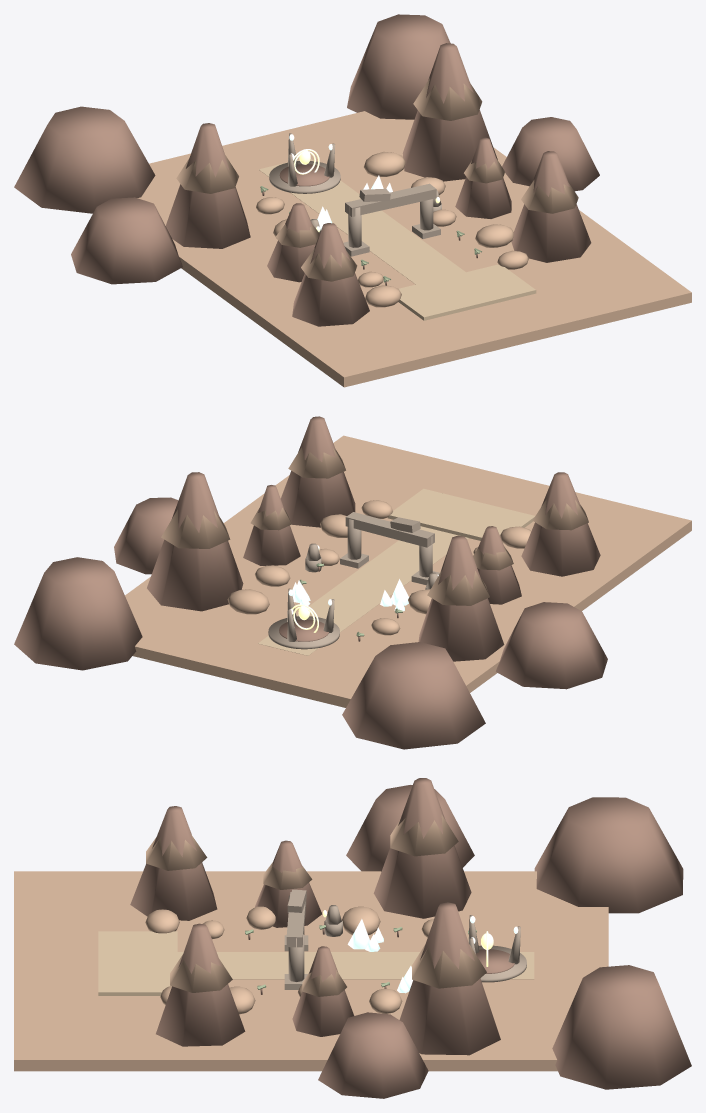
Rendered from sunscale_reach_v001.glb.
3 views of the same model, one above another, from view 1: azimuth 30°, elevation 25°; view 2: azimuth 150°, elevation 25°; view 3: azimuth 270°, elevation 25° (orthographic). The views are drawn at different scales.
Visible parts, largest first — view 1: Terrain_Base, BackdropMesa_2, BackdropMesa_3, BackdropMesa_0, CanyonSpire_5, CanyonSpire_2, Path_Main, CanyonSpire_3, Arrival_Overlook, BackdropMesa_1, CanyonSpire_0, CanyonSpire_4 (+13 smaller); view 2: Terrain_Base, BackdropMesa_2, BackdropMesa_3, BackdropMesa_0, CanyonSpire_5, Path_Main, CanyonSpire_2, CanyonSpire_0, CanyonSpire_3, Arrival_Overlook, BackdropMesa_1, CanyonSpire_4 (+14 smaller); view 3: Terrain_Base, BackdropMesa_2, BackdropMesa_3, CanyonSpire_5, BackdropMesa_1, CanyonSpire_2, CanyonSpire_3, Arrival_Overlook, CanyonSpire_0, Path_Main, BackdropMesa_0, CanyonSpire_4 (+16 smaller).
Boxes of the visible parts, x1,y1,x2,y2 form: Terrain_Base: [137, 111, 691, 387]; BackdropMesa_2: [14, 106, 155, 213]; BackdropMesa_3: [347, 14, 450, 119]; BackdropMesa_0: [71, 197, 182, 284]; CanyonSpire_5: [402, 43, 497, 181]; CanyonSpire_2: [166, 123, 250, 248]; Path_Main: [259, 159, 465, 284]; CanyonSpire_3: [511, 151, 591, 262]; Arrival_Overlook: [398, 264, 536, 320]; BackdropMesa_1: [502, 117, 599, 191]; CanyonSpire_0: [292, 223, 369, 326]; CanyonSpire_4: [455, 137, 511, 218]; Terrain_Base: [125, 435, 691, 707]; BackdropMesa_2: [342, 642, 485, 749]; BackdropMesa_3: [14, 557, 142, 670]; BackdropMesa_0: [496, 602, 607, 689]; CanyonSpire_5: [147, 472, 243, 611]; Path_Main: [258, 526, 468, 655]; CanyonSpire_2: [418, 535, 504, 661]; CanyonSpire_0: [521, 472, 600, 576]; CanyonSpire_3: [280, 416, 355, 527]; Arrival_Overlook: [387, 488, 534, 543]; BackdropMesa_1: [114, 497, 178, 574]; CanyonSpire_4: [243, 485, 300, 565]; Terrain_Base: [14, 871, 608, 1071]; BackdropMesa_2: [534, 797, 683, 913]; BackdropMesa_3: [552, 965, 691, 1089]; CanyonSpire_5: [399, 902, 500, 1055]; BackdropMesa_1: [318, 1012, 428, 1098]; CanyonSpire_2: [373, 778, 471, 918]; CanyonSpire_3: [156, 923, 245, 1046]; Arrival_Overlook: [98, 931, 177, 995]; CanyonSpire_0: [130, 806, 217, 920]; Path_Main: [177, 952, 534, 979]; BackdropMesa_0: [346, 785, 474, 871]; CanyonSpire_4: [292, 946, 354, 1036].
Size of the model in its own units: 51.67 by 12.35 by 54.72.
